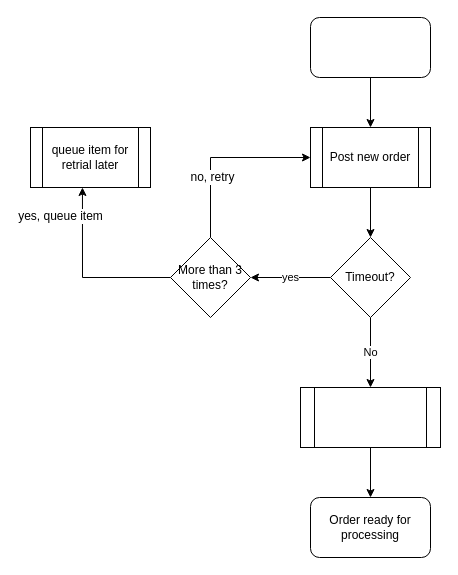
Some shapes in this 458 by 575 pixel diagram are drawn without their labels. Each missing label, with the centre of its shape:
"Order ready" goes at (x=370, y=47).
"Store Order, Notify customer" goes at (x=370, y=417).
